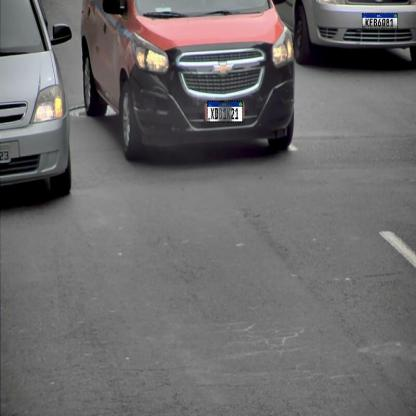PlacaM: (207, 100, 243, 122), (362, 13, 398, 29)
